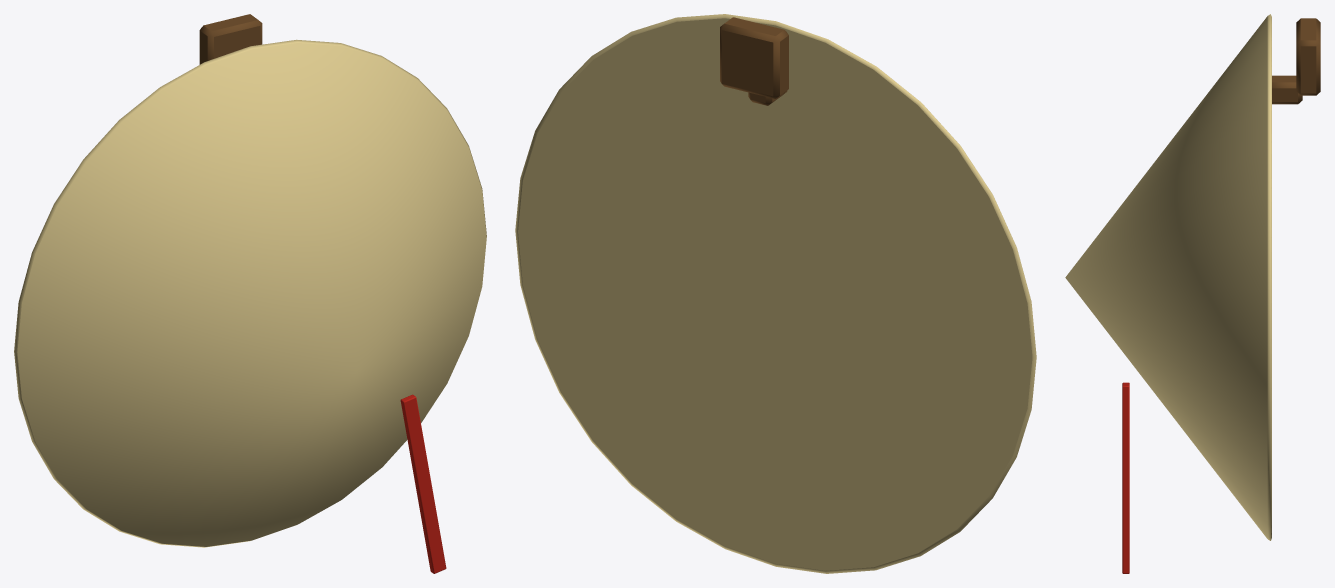
File: NonLa_TreoTuong.glb
3 renders of one model, left to right at view 1: azimuth 30°, elevation 25°; view 2: azimuth 150°, elevation 25°; view 3: azimuth 270°, elevation 25°, orthographic. The views are drawn at different scales.
Visible parts, largest first — view 1: NonLa_TreoTuong; view 2: NonLa_TreoTuong; view 3: NonLa_TreoTuong.
Boxes of the visible parts, <box> form: NonLa_TreoTuong: <box>14,14,486,573</box>; NonLa_TreoTuong: <box>515,14,1036,573</box>; NonLa_TreoTuong: <box>1065,14,1320,573</box>.
Size of the model in its own units: 0.4337 by 0.4447 by 0.21.
